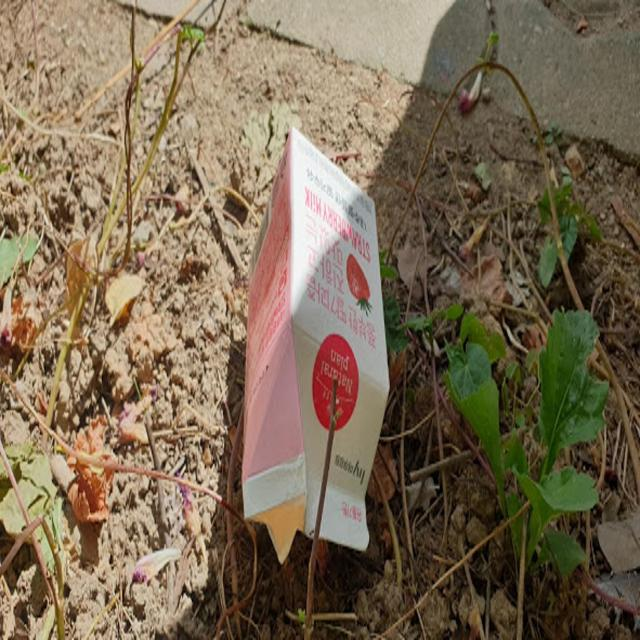paperpack: (242, 126, 389, 562)
